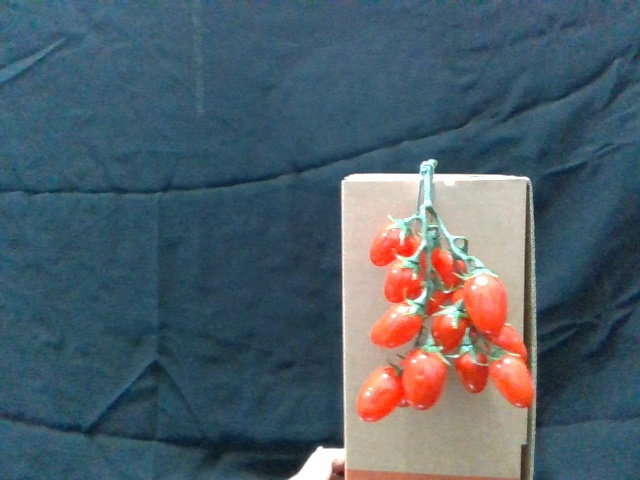tomato: (354, 360, 403, 424), (461, 268, 506, 336), (489, 345, 536, 410), (404, 346, 450, 409), (370, 300, 424, 348), (371, 219, 415, 268), (429, 301, 467, 352), (384, 258, 421, 303), (458, 340, 487, 392)
